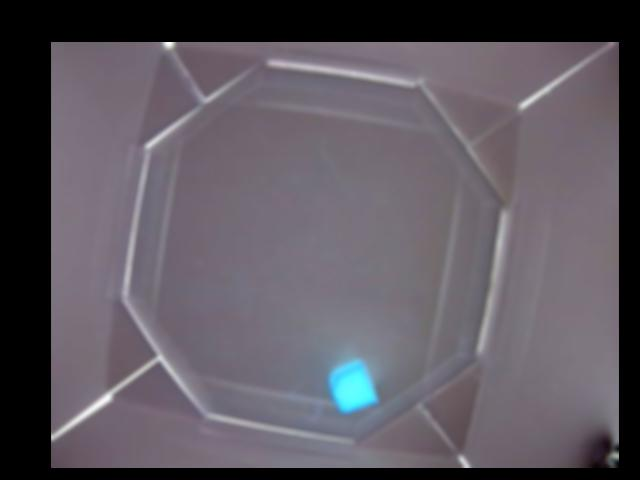Carrot: (328, 358, 378, 412)
